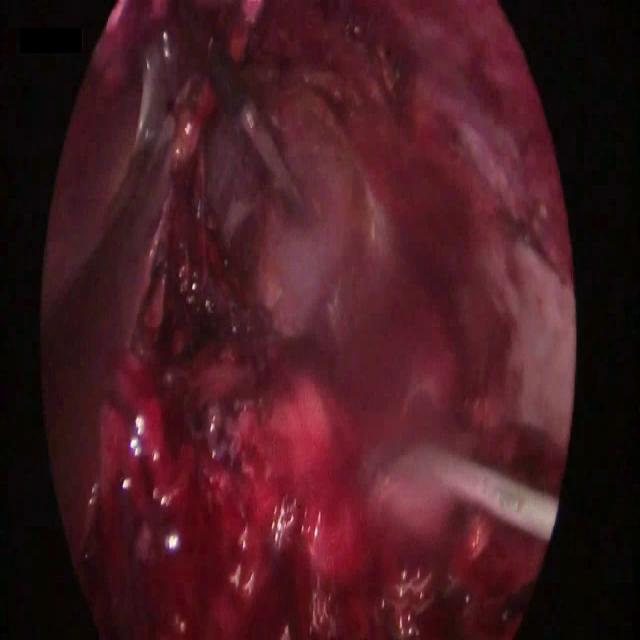surgical-area: (37, 0, 578, 639)
